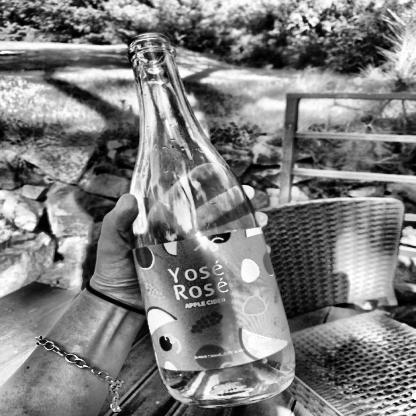yoserose: (152, 238, 275, 366)
